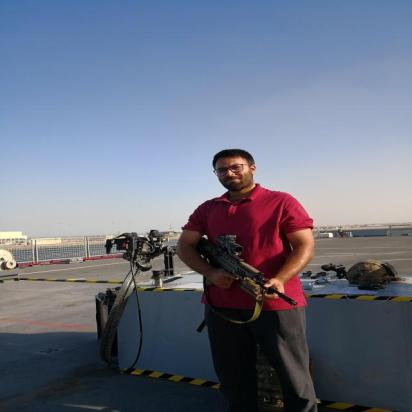Gun: (191, 232, 298, 307)
